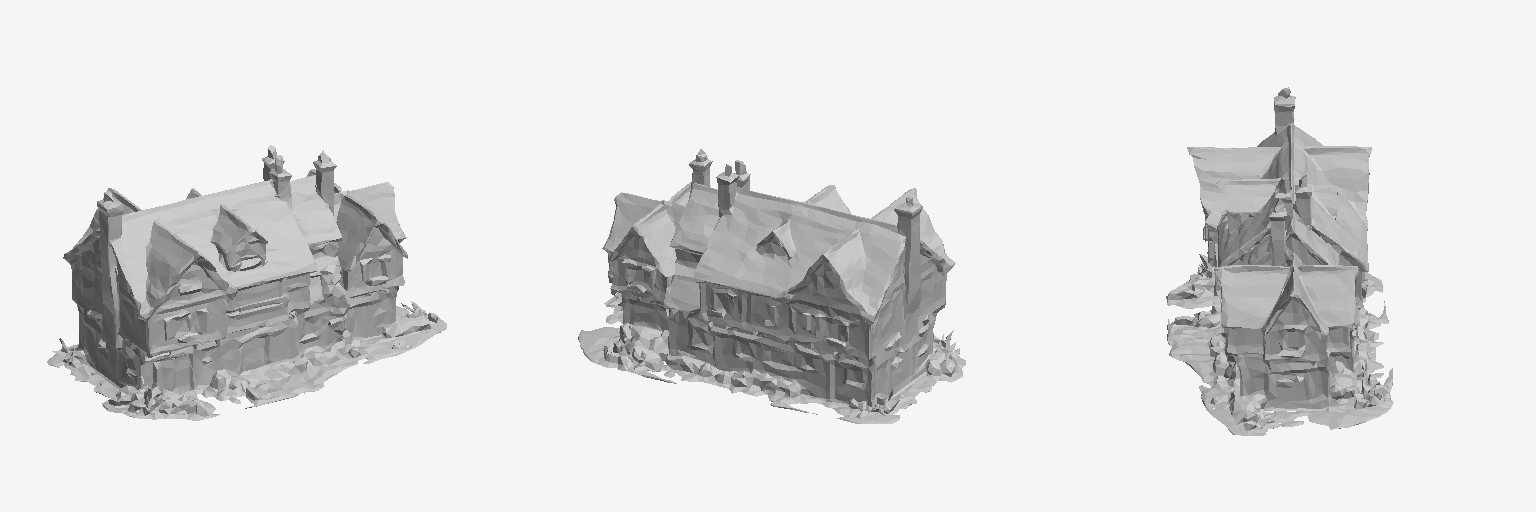
The model's file is house1.obj.
3 views of the same model, side by side, from view 1: azimuth 30°, elevation 25°; view 2: azimuth 150°, elevation 25°; view 3: azimuth 270°, elevation 25° (orthographic).
Visible parts, largest first — view 1: Medieval_Houses_[number redacted]_texture; view 2: Medieval_Houses_[number redacted]_texture; view 3: Medieval_Houses_[number redacted]_texture.
Part boxes in pixels (bbox=[...]): Medieval_Houses_[number redacted]_texture: bbox=[47, 145, 446, 420]; Medieval_Houses_[number redacted]_texture: bbox=[578, 149, 965, 423]; Medieval_Houses_[number redacted]_texture: bbox=[1166, 87, 1393, 435].
Size of the model in its own units: 1.99 by 1.07 by 1.14.